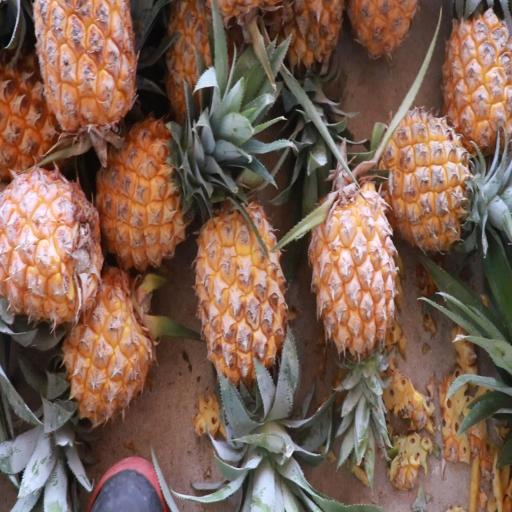Pineapple - v8 v1: (192, 197, 290, 399), (0, 164, 107, 330), (55, 262, 159, 432), (306, 171, 400, 357), (29, 0, 140, 155), (85, 114, 180, 279), (378, 102, 478, 251), (440, 0, 512, 151)
